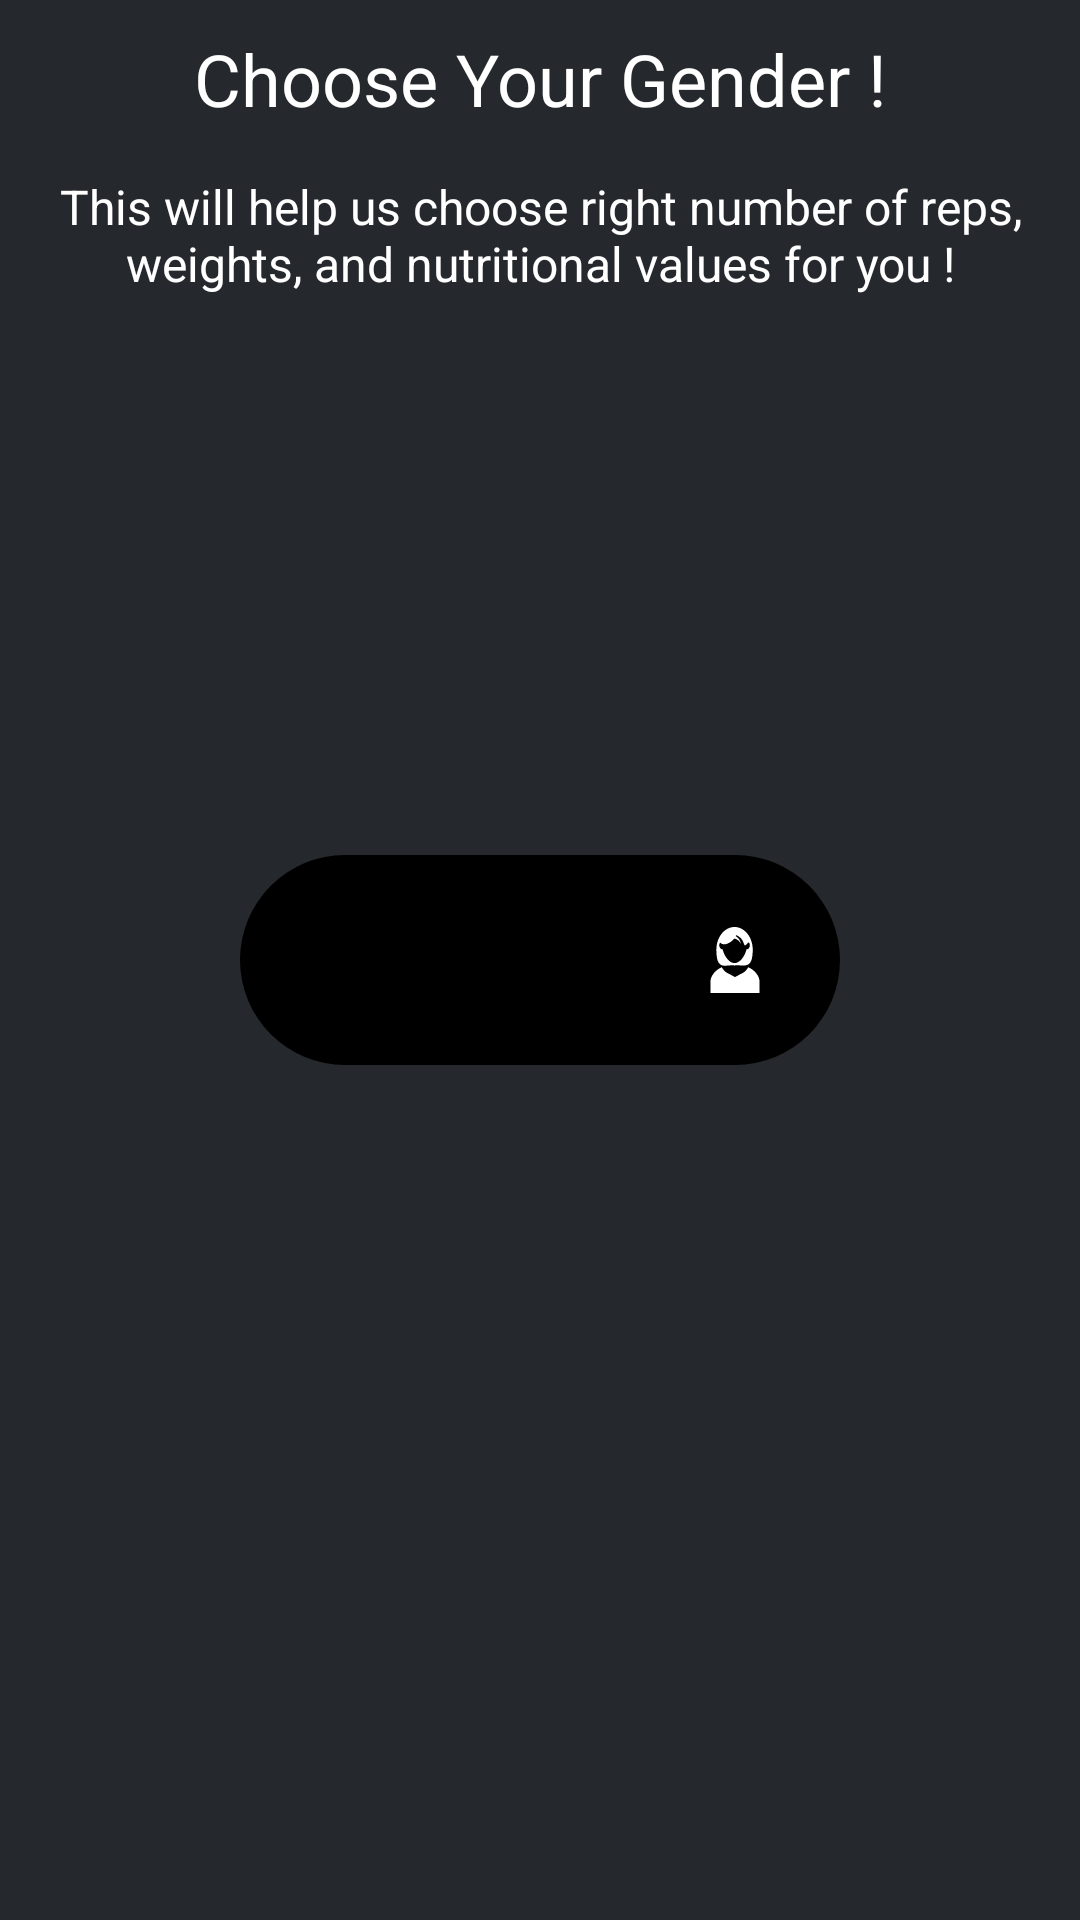

Point at icon controls on the screen. Image size 1080 × 1920, points as (x=x, y=y).
female: (x=735, y=960)
